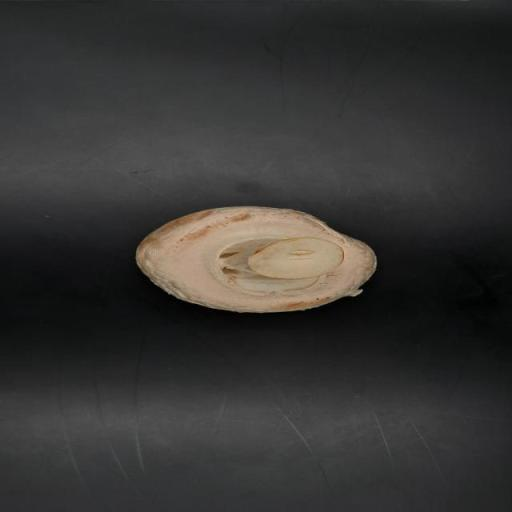Button Mushroom: (134, 204, 379, 317)
